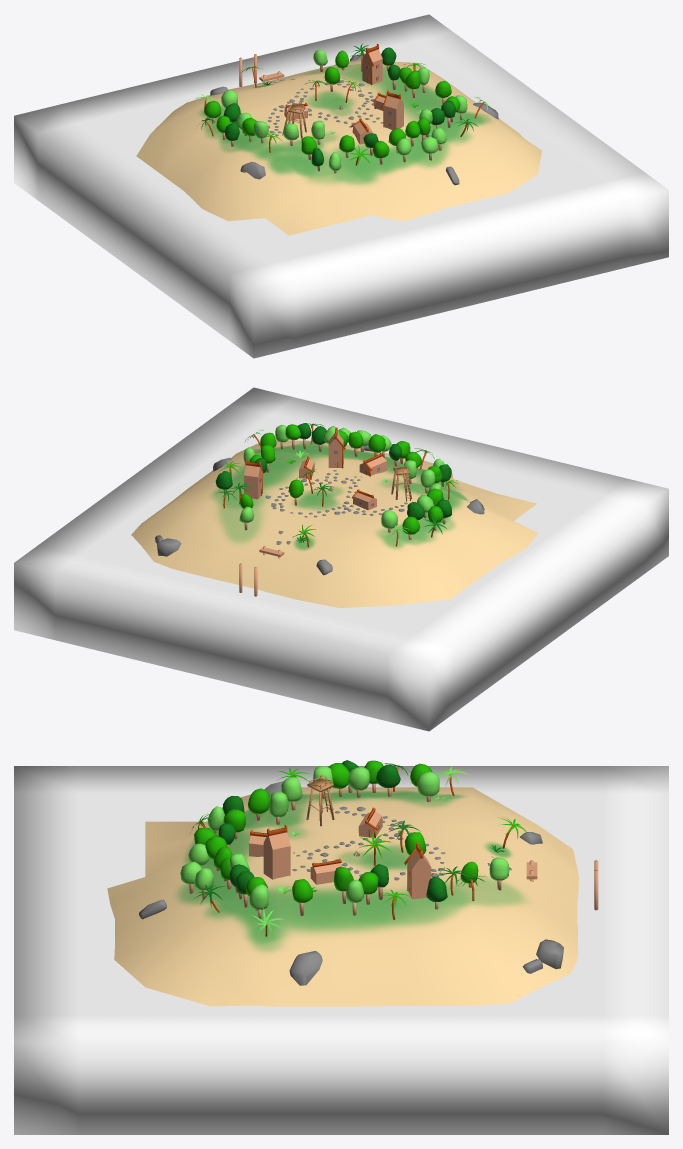
The model's file is island.glb.
The picture shows the model from 3 angles, top to bottom: view 1: azimuth 30°, elevation 25°; view 2: azimuth 150°, elevation 25°; view 3: azimuth 270°, elevation 25°; orthographic projection. The views are drawn at different scales.
Parts seen in each view (by area): view 1: Cube, Cube.001, Cube.121, Cube.110; view 2: Cube, Cube.001, Cube.110; view 3: Cube, Cube.001, Cube.121, Cube.110, Cube.009, Cube.003.
Boxes of the visible parts, box(x1,y1,x2,y2) form: Cube: box(14, 14, 668, 358); Cube.001: box(136, 60, 541, 235); Cube.121: box(384, 96, 403, 129); Cube.110: box(362, 49, 382, 84); Cube: box(14, 387, 668, 731); Cube.001: box(131, 440, 537, 607); Cube.110: box(244, 465, 262, 499); Cube: box(14, 766, 668, 1134); Cube.001: box(107, 787, 578, 1006); Cube.121: box(263, 832, 290, 879); Cube.110: box(408, 850, 431, 899); Cube.009: box(289, 951, 322, 985); Cube.003: box(536, 939, 563, 969).
Size of what is drawn, in the model's own units: 2 by 0.6687 by 2.
Materials: 12 (1 with a texture image).
